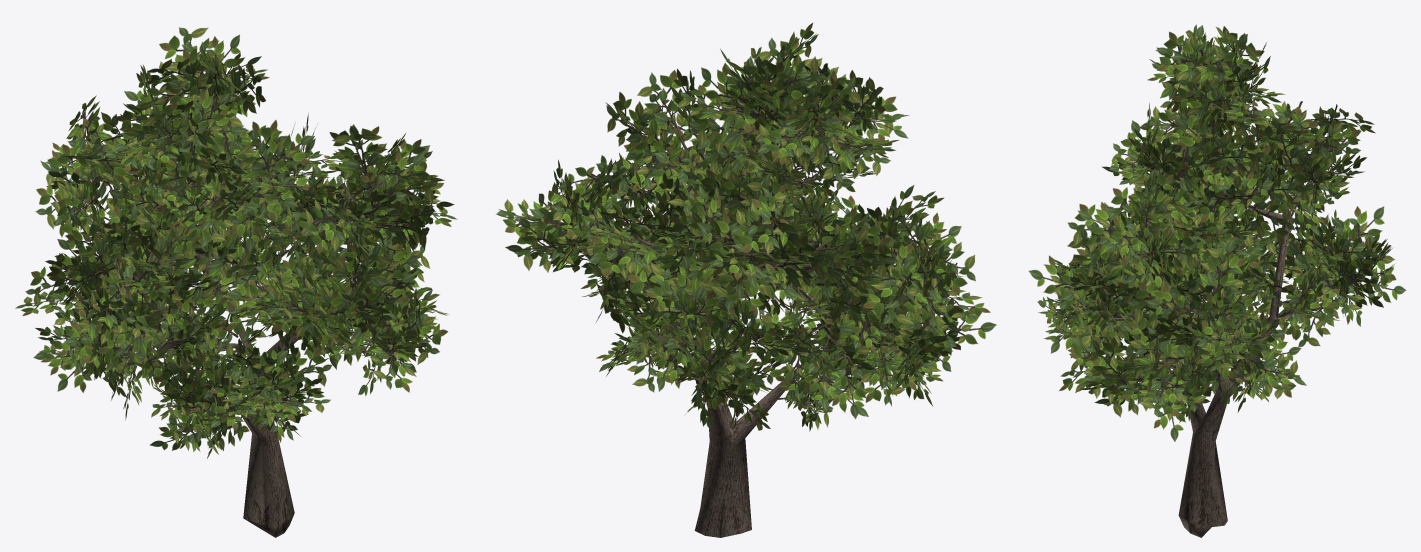
Rendered from realistic_tree.lod2.glb.
3 renders of one model, left to right at view 1: azimuth 30°, elevation 25°; view 2: azimuth 150°, elevation 25°; view 3: azimuth 270°, elevation 25°, orthographic. The views are drawn at different scales.
Parts seen in each view (by area): view 1: crown merged_normal leaves_0, br_low_trunk_0; view 2: crown merged_normal leaves_0, br_low_trunk_0; view 3: crown merged_normal leaves_0, br_low_trunk_0.
Part boxes in pixels (<box>): crown merged_normal leaves_0: <box>15,27,457,458</box>; br_low_trunk_0: <box>65,91,422,537</box>; crown merged_normal leaves_0: <box>496,23,996,431</box>; br_low_trunk_0: <box>549,76,948,537</box>; crown merged_normal leaves_0: <box>1028,24,1406,441</box>; br_low_trunk_0: <box>1060,77,1364,537</box>.
Size of the model in its own units: 15.79 by 16.43 by 11.86.
Materials: 2 (2 with a texture image).
